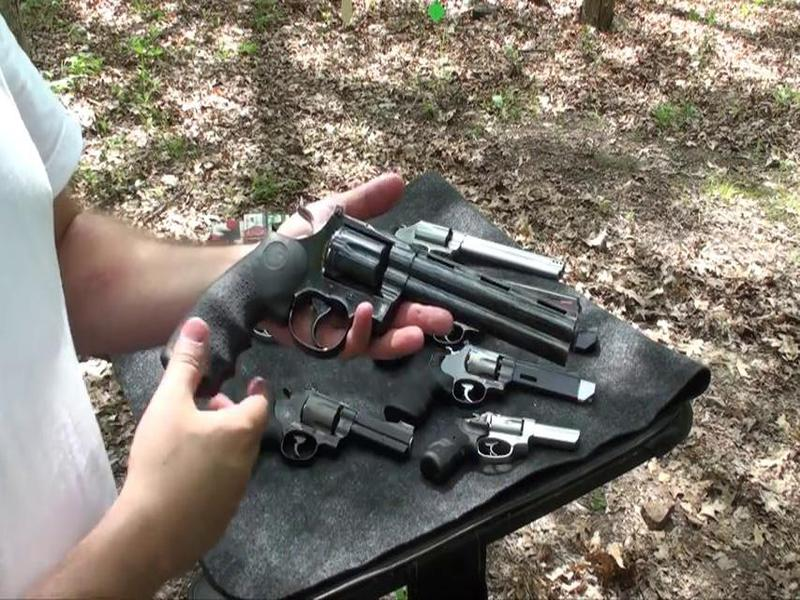Revolver: (194, 188, 573, 443)
